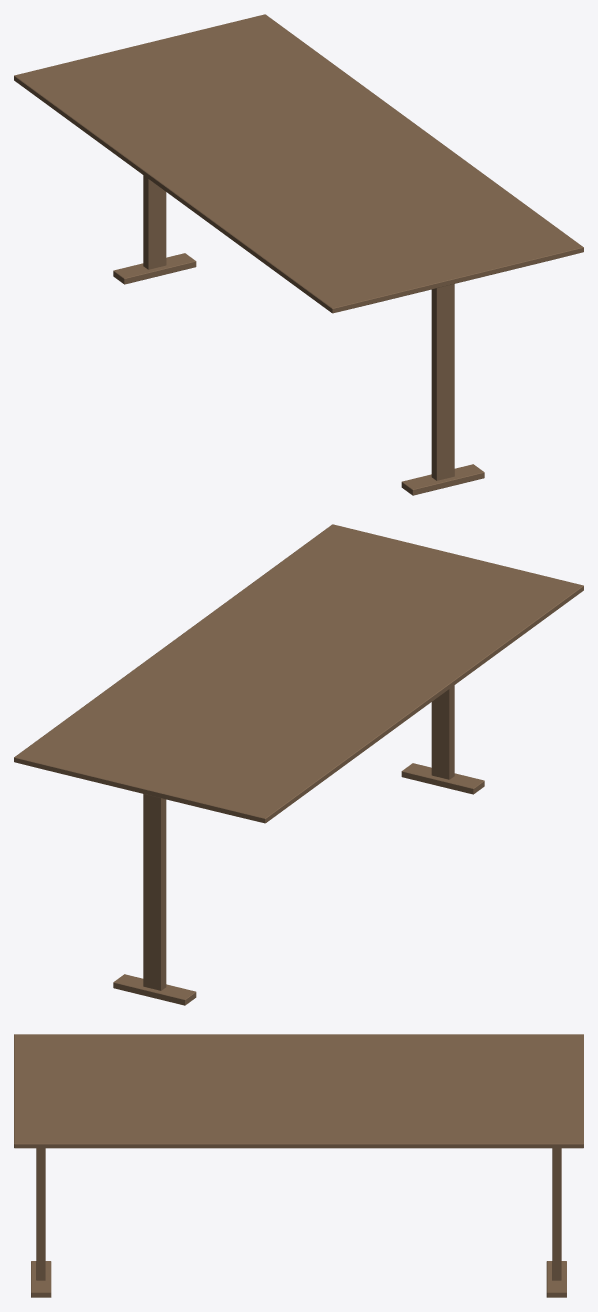
Rendered from StandingDesk1.fbx.
3 views of the same model, one above another, from view 1: azimuth 30°, elevation 25°; view 2: azimuth 150°, elevation 25°; view 3: azimuth 270°, elevation 25° (orthographic). The views are drawn at different scales.
Parts seen in each view (by area): view 1: StandingDesk1; view 2: StandingDesk1; view 3: StandingDesk1.
Boxes of the visible parts, box(x1,y1,x2,y2) form: StandingDesk1: box(14, 14, 583, 495); StandingDesk1: box(14, 524, 583, 1005); StandingDesk1: box(14, 1034, 583, 1297).
Size of the model in its own units: 1.14 by 0.9382 by 2.51.
